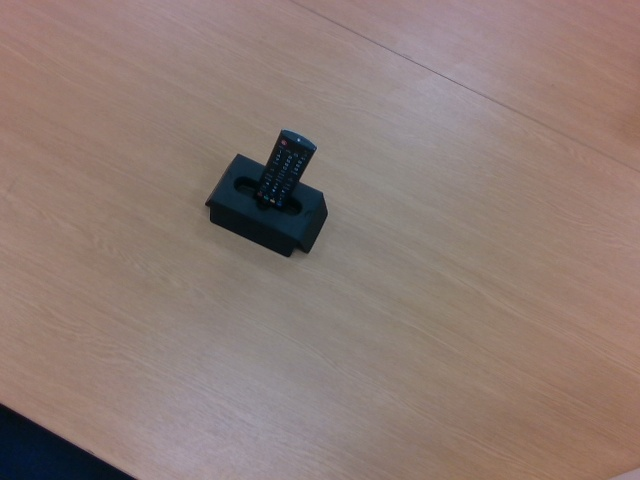remote: (252, 130, 317, 212)
